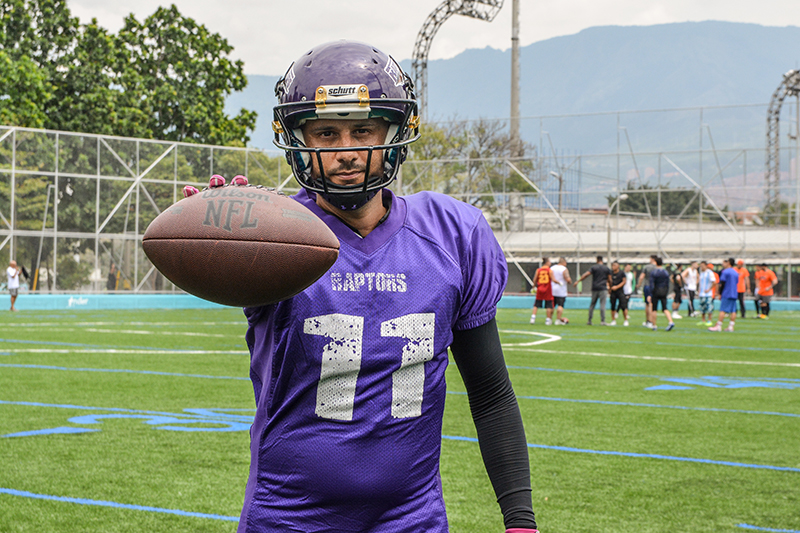futbol americano: (143, 184, 340, 306)
